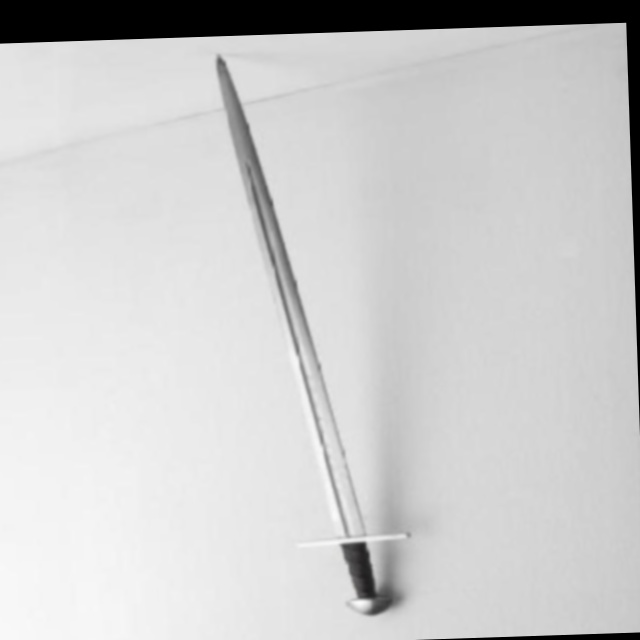Sharp-Object: (206, 52, 387, 608)
